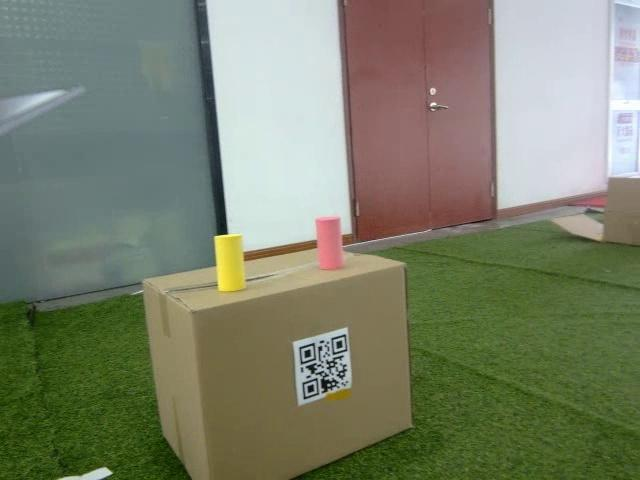red_cylinder: (315, 214, 341, 272)
yellow_cylinder: (211, 232, 248, 293)
